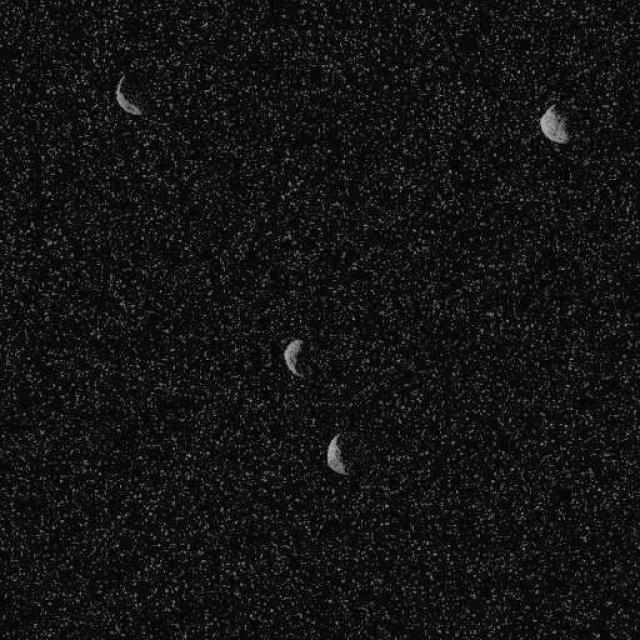D2: (539, 101, 570, 145), (114, 72, 142, 116), (325, 432, 347, 477), (281, 338, 305, 378)
